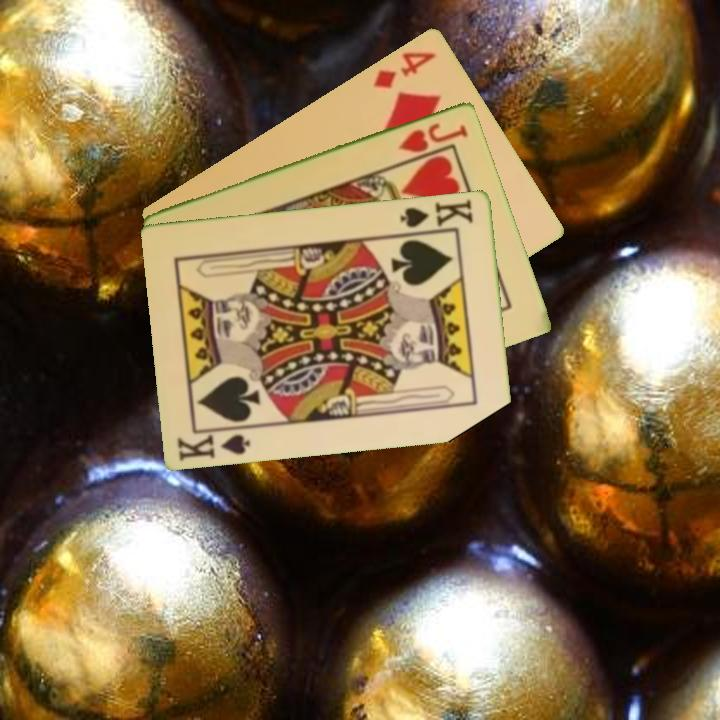4d: (369, 47, 439, 91)
Jh: (395, 118, 471, 155)
Ks: (174, 423, 255, 464), (397, 196, 476, 236)
